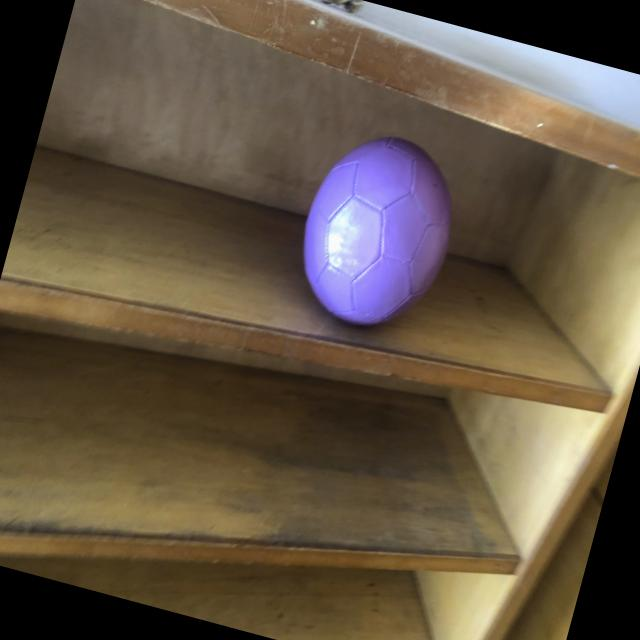purple_ball: (282, 122, 474, 341)
